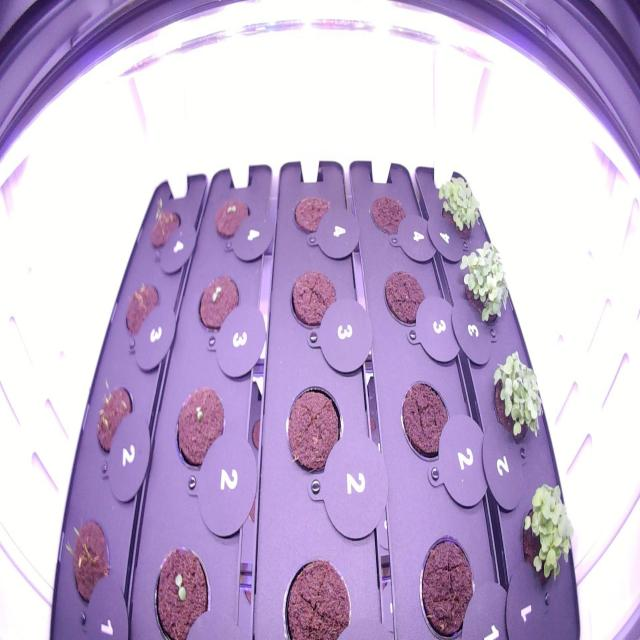germination: (511, 474, 580, 594), (145, 535, 217, 639), (486, 340, 550, 454), (56, 508, 118, 611), (451, 234, 516, 332), (170, 380, 232, 480), (90, 366, 139, 464), (432, 168, 491, 248), (191, 269, 246, 343), (143, 191, 184, 256), (209, 191, 255, 248)
pod: (278, 378, 348, 492), (413, 526, 483, 636), (276, 545, 354, 639), (395, 371, 455, 470), (283, 263, 345, 335), (376, 261, 432, 337), (116, 270, 168, 347), (285, 188, 341, 248), (368, 186, 413, 244)
